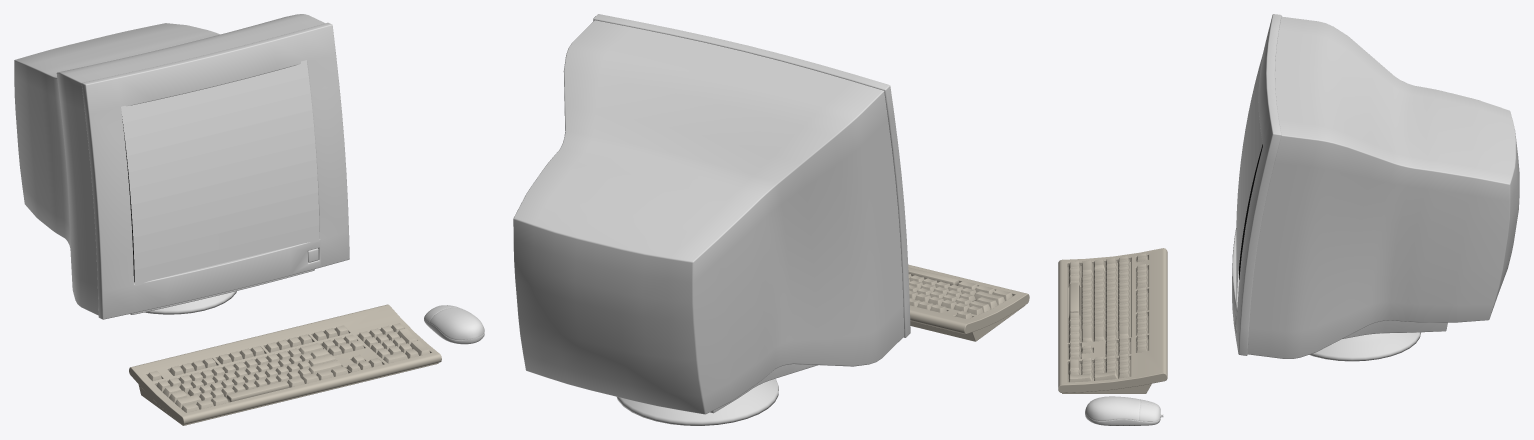
File: Monitor.glb
3 renders of one model, left to right at view 1: azimuth 30°, elevation 25°; view 2: azimuth 150°, elevation 25°; view 3: azimuth 270°, elevation 25°, orthographic. The views are drawn at different scales.
Parts seen in each view (by area): view 1: Keyboard_Plane.014, Screen; view 2: Keyboard_Plane.014; view 3: Keyboard_Plane.014, Screen.
Boxes of the visible parts, left/top/right/bottom form: Keyboard_Plane.014: left=14, top=14, right=484, bottom=425; Screen: left=121, top=60, right=319, bottom=286; Keyboard_Plane.014: left=513, top=14, right=1029, bottom=425; Keyboard_Plane.014: left=1058, top=14, right=1519, bottom=425; Screen: left=1236, top=54, right=1262, bottom=309.
Size of the model in its own units: 3.04 by 2.36 by 3.77.
